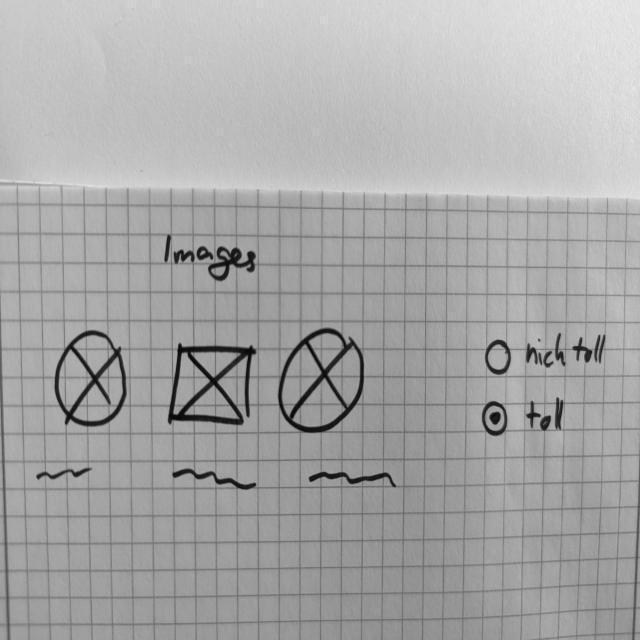image: (277, 324, 368, 438), (168, 341, 256, 431), (55, 329, 131, 431)
label: (160, 231, 263, 286)
radio: (484, 330, 518, 377), (480, 397, 512, 440)
text: (170, 465, 260, 497), (308, 468, 401, 494), (35, 462, 97, 489)
